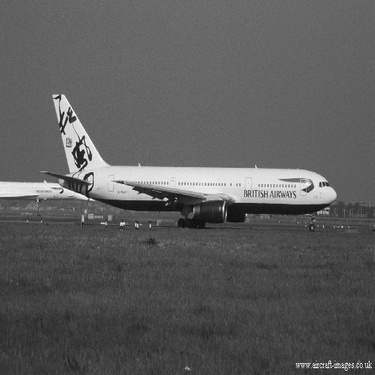airplane: (34, 85, 344, 233), (3, 167, 101, 210)
